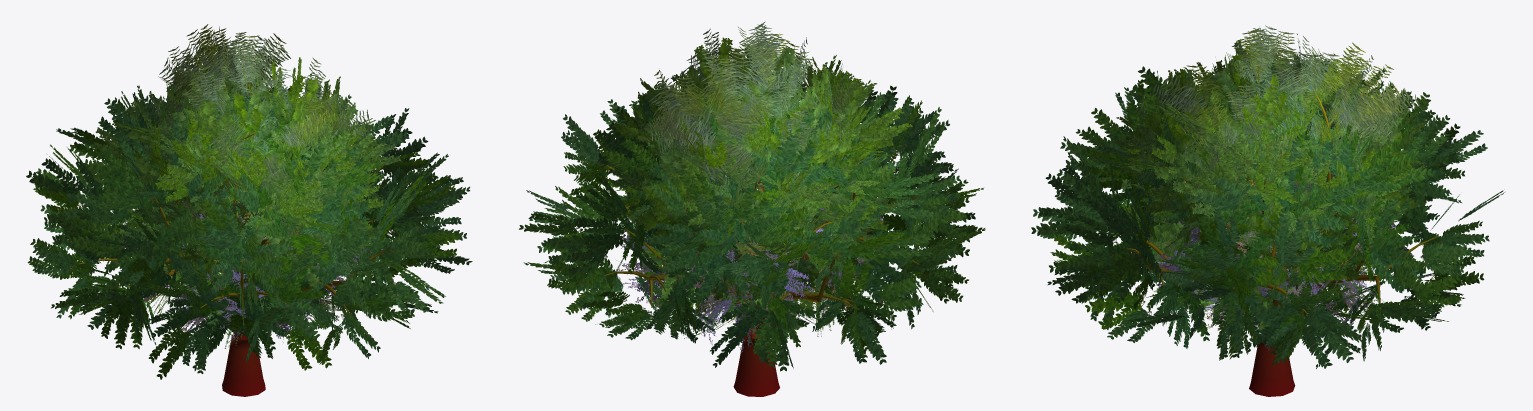
The model's file is trees.glb.
3 renders of one model, left to right at view 1: azimuth 30°, elevation 25°; view 2: azimuth 150°, elevation 25°; view 3: azimuth 270°, elevation 25°, orthographic. The views are drawn at different scales.
Parts seen in each view (by area): view 1: fig_LOD0, plane_LOD0, elm_LOD0, gum_LOD0, jacaranda_LOD0; view 2: fig_LOD0, plane_LOD0, gum_LOD0, elm_LOD0, jacaranda_LOD0, palm_LOD0; view 3: fig_LOD0, plane_LOD0, gum_LOD0, elm_LOD0, jacaranda_LOD0, palm_LOD0.
Boxes of the visible parts, x1,y1,x2,y2 form: fig_LOD0: (26,66,472,396); plane_LOD0: (101,57,376,331); elm_LOD0: (88,65,401,326); gum_LOD0: (134,24,370,239); jacaranda_LOD0: (113,182,382,348); fig_LOD0: (519,55,985,396); plane_LOD0: (618,37,903,329); gum_LOD0: (641,21,871,338); elm_LOD0: (606,48,912,319); jacaranda_LOD0: (616,174,884,352); palm_LOD0: (668,179,825,338); fig_LOD0: (1031,52,1504,396); plane_LOD0: (1121,39,1415,329); gum_LOD0: (1139,25,1420,293); elm_LOD0: (1114,59,1428,316); jacaranda_LOD0: (1146,164,1413,350); palm_LOD0: (1192,212,1351,337).
Size of what is drawn, in the model's own units: 24.13 by 19.79 by 24.28.
Materials: 7 (1 with a texture image).
